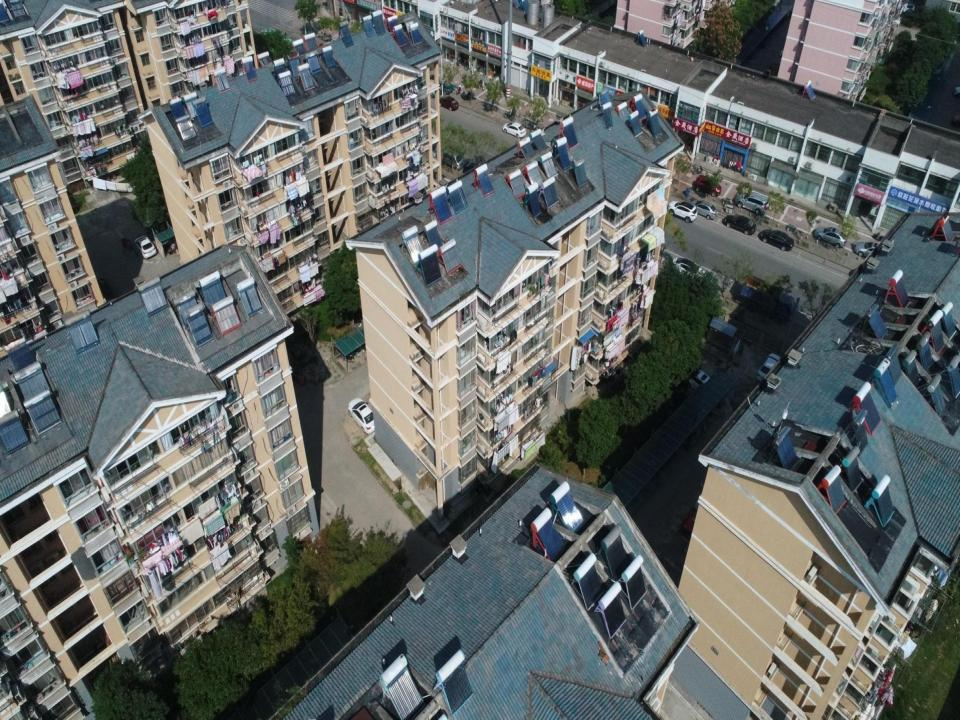car: (348, 397, 378, 434), (671, 256, 706, 286), (733, 190, 768, 215), (756, 353, 783, 383), (758, 229, 794, 251), (722, 214, 757, 236), (813, 226, 847, 248), (668, 200, 698, 223), (853, 241, 890, 259), (689, 199, 718, 220), (695, 174, 721, 197), (134, 234, 157, 260), (690, 368, 711, 387), (502, 121, 526, 137), (439, 96, 459, 111)
truck: (732, 282, 800, 325)
van: (442, 148, 464, 171)
